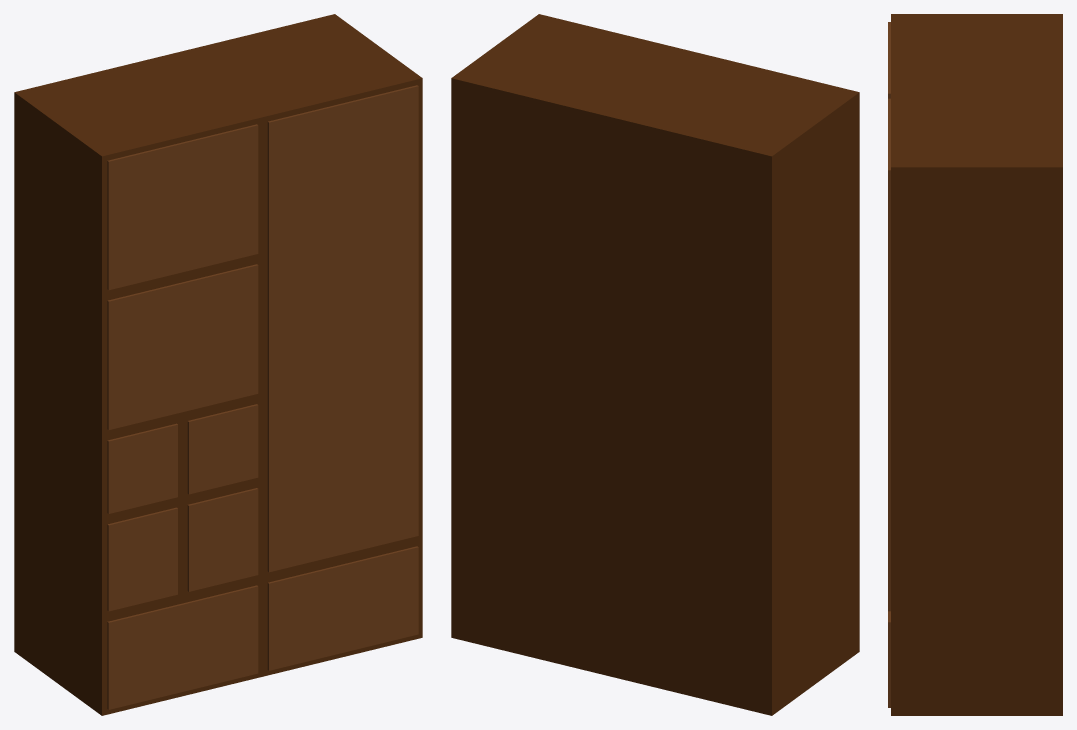
Rendered from Wardrobe.fbx.
The picture shows the model from 3 angles, left to right: view 1: azimuth 30°, elevation 25°; view 2: azimuth 150°, elevation 25°; view 3: azimuth 270°, elevation 25°; orthographic projection.
Parts seen in each view (by area): view 1: Prop_Shelve_04; view 2: Prop_Shelve_04; view 3: Prop_Shelve_04.
Part boxes in pixels (bbox=[...]): Prop_Shelve_04: bbox=[14, 14, 422, 715]; Prop_Shelve_04: bbox=[451, 14, 859, 715]; Prop_Shelve_04: bbox=[888, 14, 1062, 715].
Size of the model in its own units: 119 by 198 by 57.16.
Materials: 1 (1 with a texture image).
